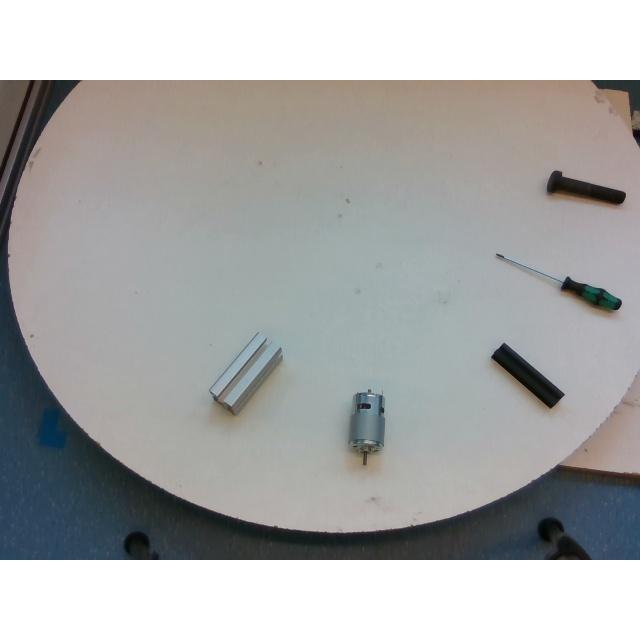F20_20_B: (491, 343, 563, 405)
M20_100: (547, 170, 625, 202)
Motor2: (348, 389, 384, 463)
S40_40_G: (209, 333, 281, 413)
Screwdriver: (496, 253, 620, 309)
